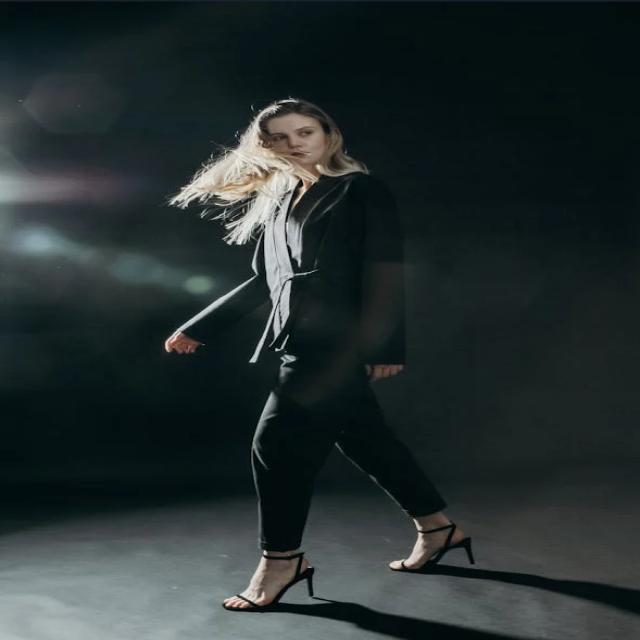Edited images: (138, 85, 510, 618)
